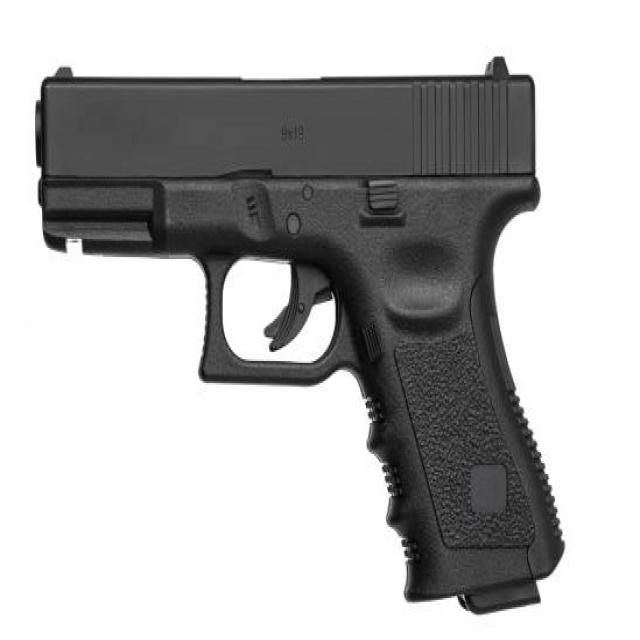pistol: (31, 56, 572, 618)
